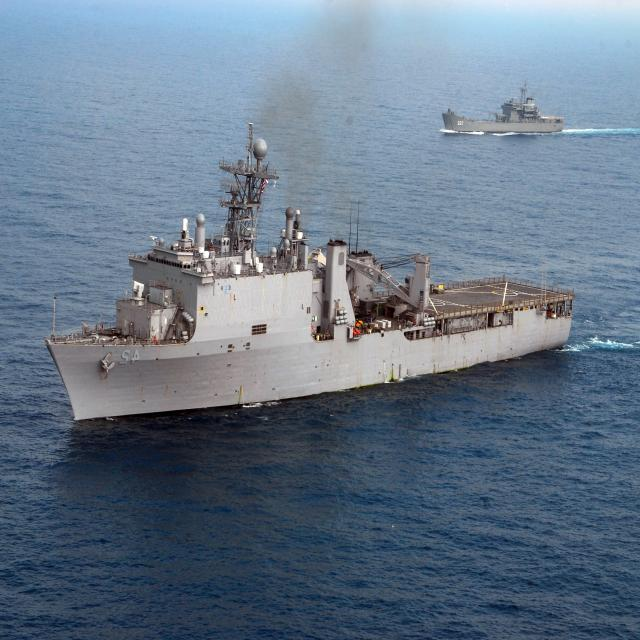navalvessels: (38, 120, 571, 427), (440, 70, 566, 140)
